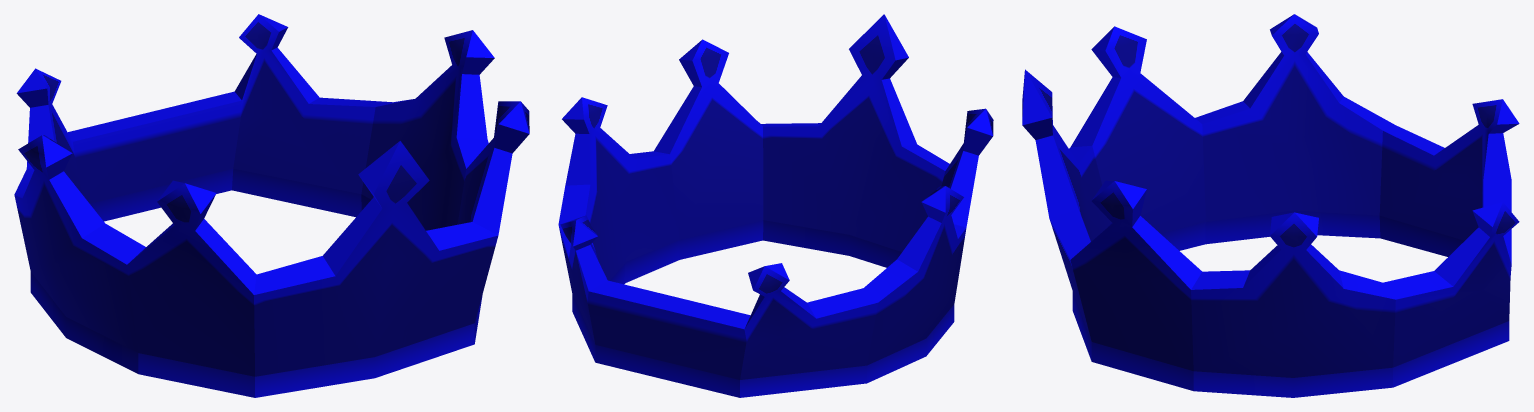
Rendered from Crown.fbx.
3 views of the same model, side by side, from view 1: azimuth 30°, elevation 25°; view 2: azimuth 150°, elevation 25°; view 3: azimuth 270°, elevation 25° (orthographic). The views are drawn at different scales.
Parts seen in each view (by area): view 1: Crown; view 2: Crown; view 3: Crown.
Part boxes in pixels (bbox=[...]): Crown: bbox=[14, 14, 529, 397]; Crown: bbox=[558, 14, 993, 397]; Crown: bbox=[1022, 14, 1519, 397].
Bounding box in the file's own units: 30.34 × 16.39 × 30.45.
